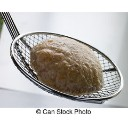poori: (32, 39, 103, 92)
